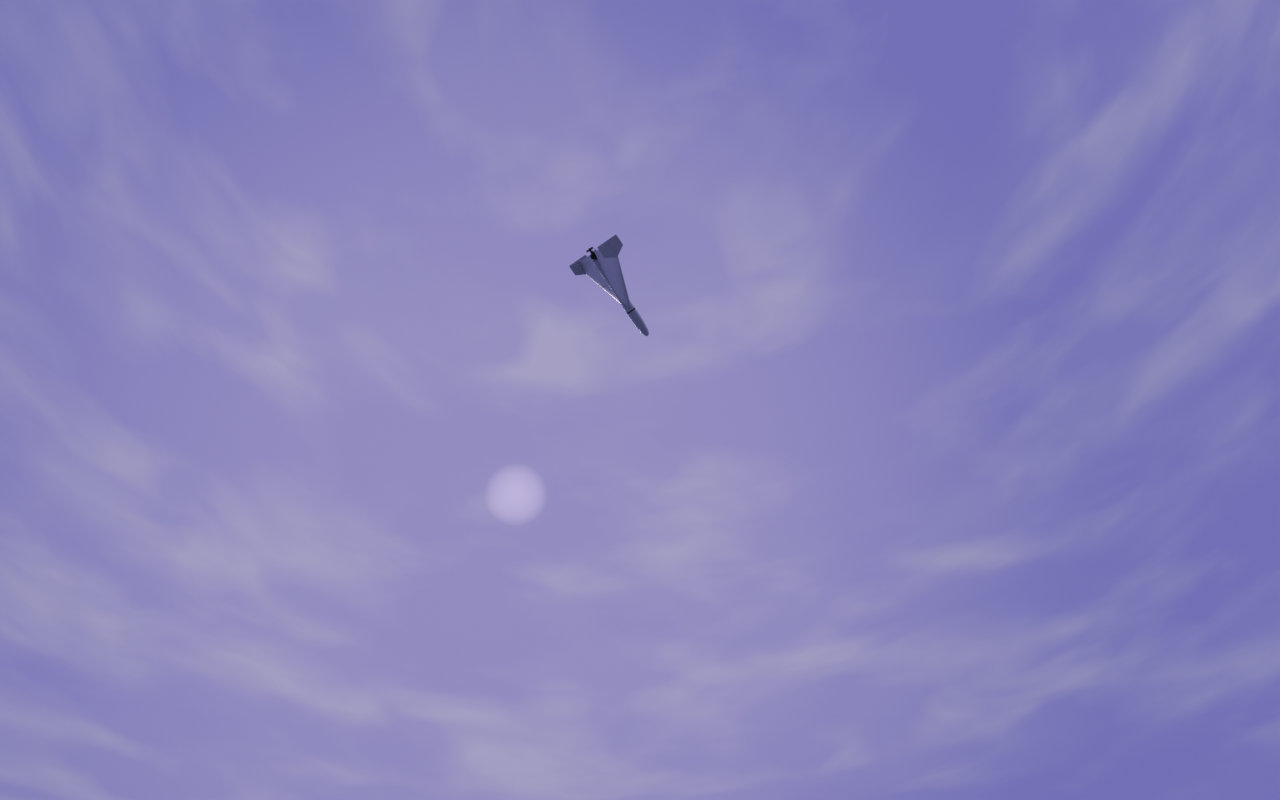shahed: (569, 234, 651, 338)
